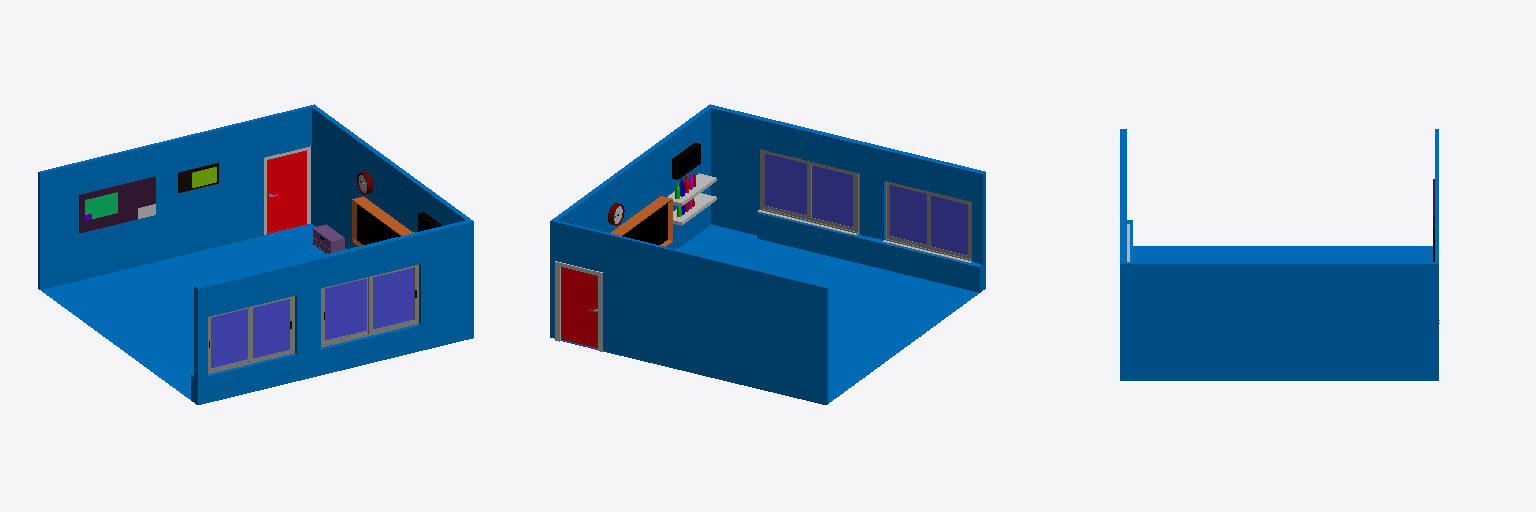
File: CLASSROOM_.obj
3 renders of one model, left to right at view 1: azimuth 30°, elevation 25°; view 2: azimuth 150°, elevation 25°; view 3: azimuth 270°, elevation 25°, orthographic.
Size of the model in its own units: 40.07 by 16.55 by 40.25.